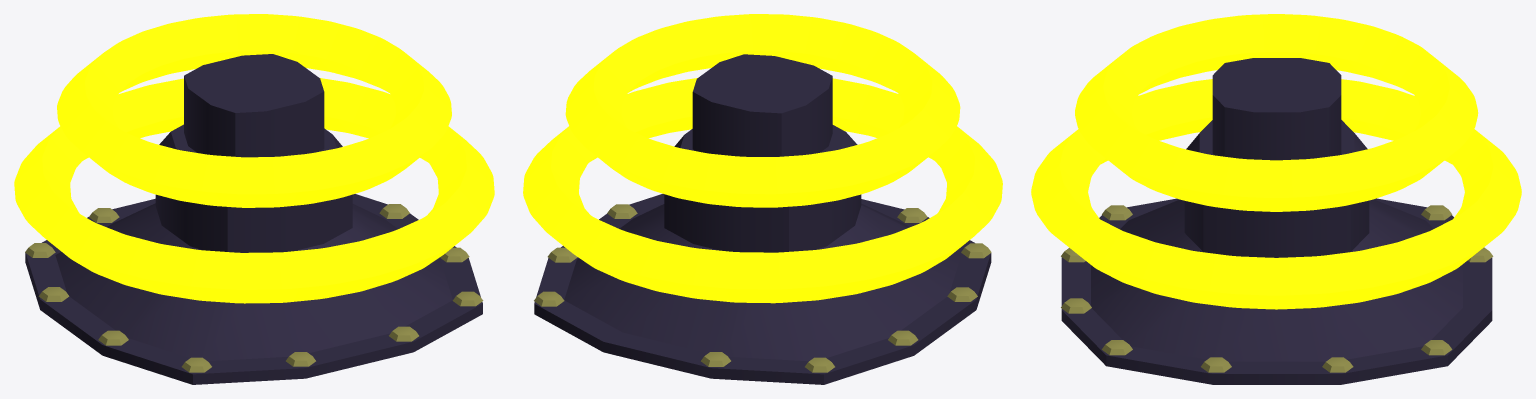
The model's file is tur_Column.fbx.
3 renders of one model, left to right at view 1: azimuth 30°, elevation 25°; view 2: azimuth 150°, elevation 25°; view 3: azimuth 270°, elevation 25°, orthographic. The views are drawn at different scales.
Visible parts, largest first — view 1: Offset Toolpath, Tur Column, gEAR; view 2: Offset Toolpath, Tur Column, gEAR; view 3: Offset Toolpath, Tur Column, gEAR.
Part boxes in pixels (bbox=[...]): Offset Toolpath: bbox=[14, 14, 494, 303]; Tur Column: bbox=[25, 54, 482, 384]; gEAR: bbox=[25, 204, 483, 372]; Offset Toolpath: bbox=[523, 14, 1002, 303]; Tur Column: bbox=[534, 54, 991, 384]; gEAR: bbox=[534, 204, 991, 372]; Offset Toolpath: bbox=[1031, 14, 1521, 309]; Tur Column: bbox=[1061, 58, 1492, 384]; gEAR: bbox=[1061, 205, 1493, 372].
Bounding box in the file's own units: 1.45 × 0.682 × 1.45.
